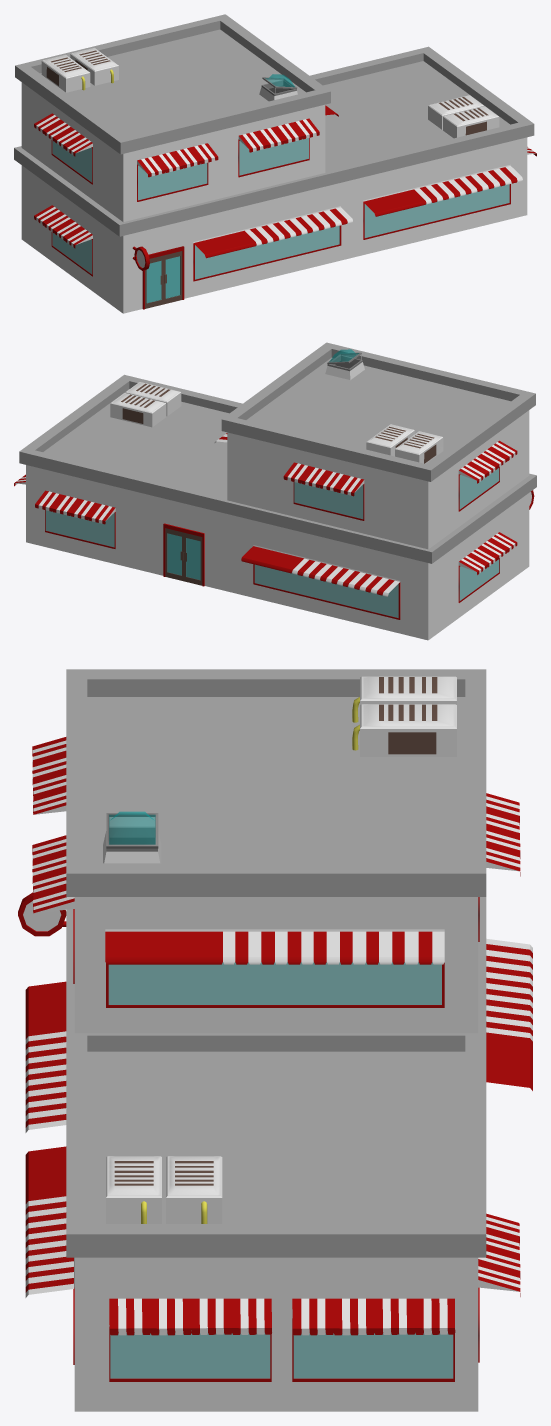
Rendered from Building_2Story_Mod_2.fbx.
3 renders of one model, top to bottom at view 1: azimuth 30°, elevation 25°; view 2: azimuth 150°, elevation 25°; view 3: azimuth 270°, elevation 25°, orthographic. The views are drawn at different scales.
Visible parts, largest first — view 1: Building390, Windows7, Roof11, Roof, Aircon18, Aircon15, Aircon17, Door39, Door38, Aircon16, RoofLatch2; view 2: Building390, Roof11, Windows7, Roof, Aircon16, Aircon18, DoorRight11, DoorLeft9, Aircon17, RoofLatch2, Aircon15; view 3: Building390, Roof11, Windows7, Roof, Aircon17, Aircon16, Aircon15, Aircon18, RoofLatch2, Sign6.
Part boxes in pixels (<box>): Building390: <box>14,82,527,313</box>; Windows7: <box>34,105,536,281</box>; Roof11: <box>15,14,330,154</box>; Roof: <box>310,46,534,186</box>; Aircon18: <box>41,55,90,92</box>; Aircon15: <box>443,106,499,138</box>; Aircon17: <box>70,48,118,85</box>; Door39: <box>163,251,182,304</box>; Door38: <box>145,255,163,308</box>; Aircon16: <box>428,95,483,129</box>; RoofLatch2: <box>259,74,297,101</box>; Building390: <box>26,410,536,640</box>; Roof11: <box>221,342,535,481</box>; Windows7: <box>14,433,517,619</box>; Roof: <box>19,374,242,514</box>; Aircon16: <box>110,393,166,427</box>; Aircon18: <box>395,431,443,463</box>; DoorRight11: <box>184,532,202,585</box>; DoorLeft9: <box>165,528,183,581</box>; Aircon17: <box>366,424,414,456</box>; RoofLatch2: <box>325,349,364,379</box>; Aircon15: <box>125,382,181,416</box>; Building390: <box>66,897,486,1411</box>; Roof11: <box>66,669,486,896</box>; Windows7: <box>25,737,532,1381</box>; Roof: <box>66,1035,486,1257</box>; Aircon17: <box>352,704,456,756</box>; Aircon16: <box>166,1156,222,1223</box>; Aircon15: <box>106,1156,161,1223</box>; Aircon18: <box>352,676,456,722</box>; RoofLatch2: <box>103,811,161,863</box>; Sign6: <box>18,892,66,936</box>.
Bounding box in the file's own units: 20.02 × 8.06 × 10.17.
